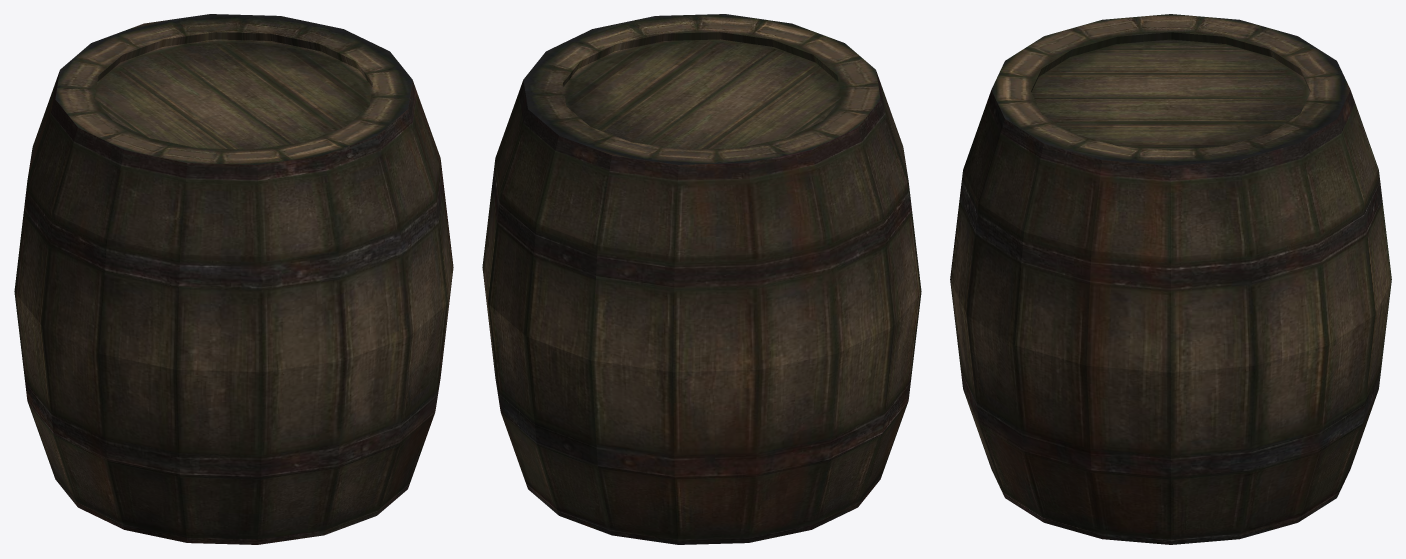
File: Barril_4toE_v2.fbx
3 renders of one model, left to right at view 1: azimuth 30°, elevation 25°; view 2: azimuth 150°, elevation 25°; view 3: azimuth 270°, elevation 25°, orthographic.
Visible parts, largest first — view 1: Barril; view 2: Barril; view 3: Barril.
Part boxes in pixels (x1,y1,x2,y2): Barril: (14,14,453,544); Barril: (482,14,921,544); Barril: (950,14,1391,544).
Bounding box in the file's own units: 312 × 295 × 312.
1 material, 1 textured.
